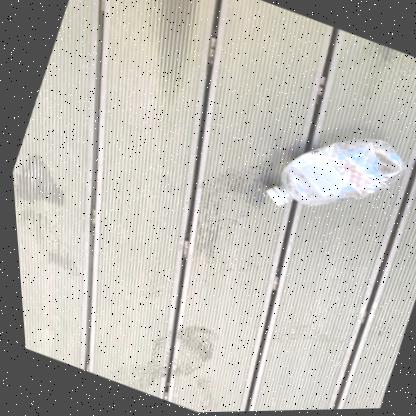Plastic: (263, 138, 403, 205)
